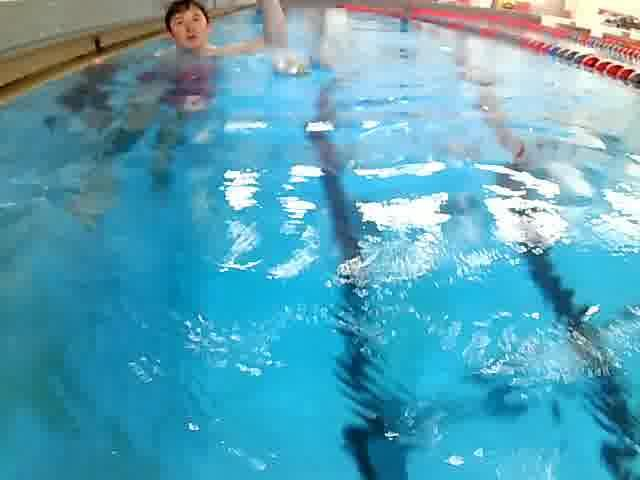Can: (271, 52, 316, 85)
